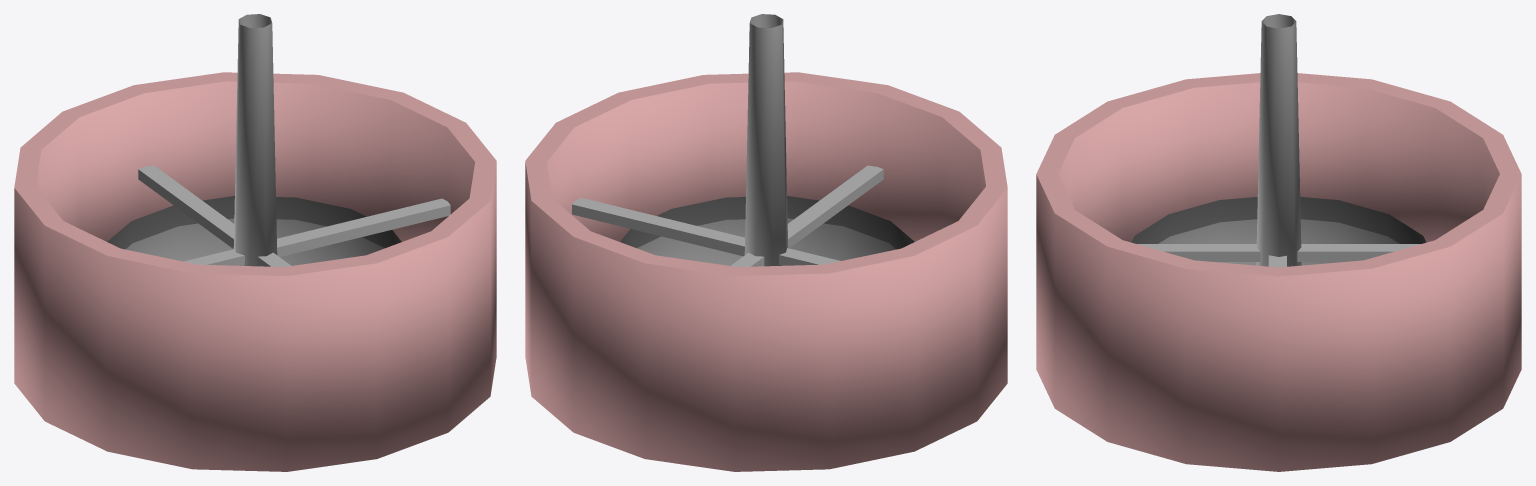
Rendered from ceiling_lamp_2.glb.
The picture shows the model from 3 angles, left to right: view 1: azimuth 30°, elevation 25°; view 2: azimuth 150°, elevation 25°; view 3: azimuth 270°, elevation 25°; orthographic projection.
Visible parts, largest first — view 1: Ceiling Lamp 3, Ceiling Lamp 4; view 2: Ceiling Lamp 3, Ceiling Lamp 4; view 3: Ceiling Lamp 3, Ceiling Lamp 4.
Part boxes in pixels (x1=…): Ceiling Lamp 3: x1=14, y1=14, x2=496, y2=471; Ceiling Lamp 4: x1=107, y1=196, x2=401, y2=265; Ceiling Lamp 3: x1=525, y1=14, x2=1007, y2=471; Ceiling Lamp 4: x1=620, y1=196, x2=914, y2=265; Ceiling Lamp 3: x1=1036, y1=14, x2=1521, y2=471; Ceiling Lamp 4: x1=1131, y1=197, x2=1426, y2=265.
Size of the model in its own units: 0.336 by 0.2747 by 0.336.
Materials: 3 (2 with a texture image).
